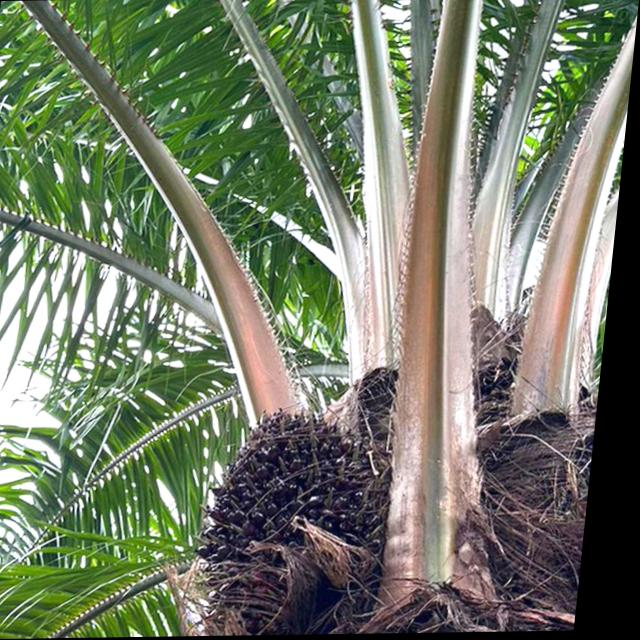almost: (189, 393, 415, 637)
